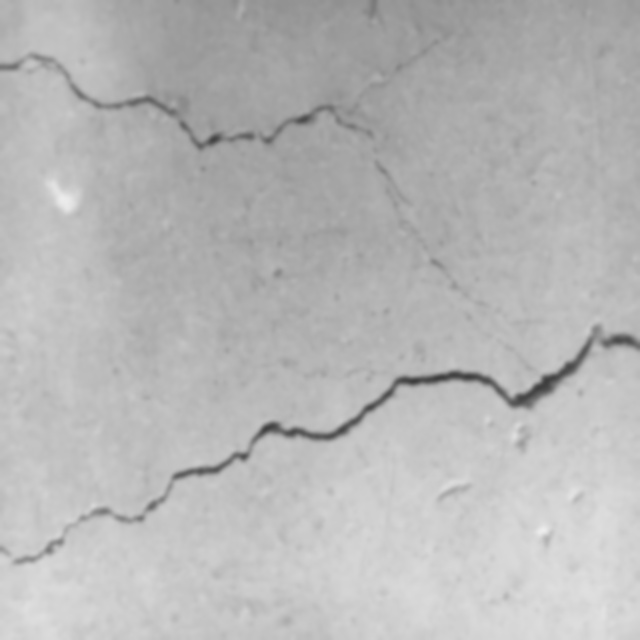SurfaceCrack: (1, 315, 639, 600)
